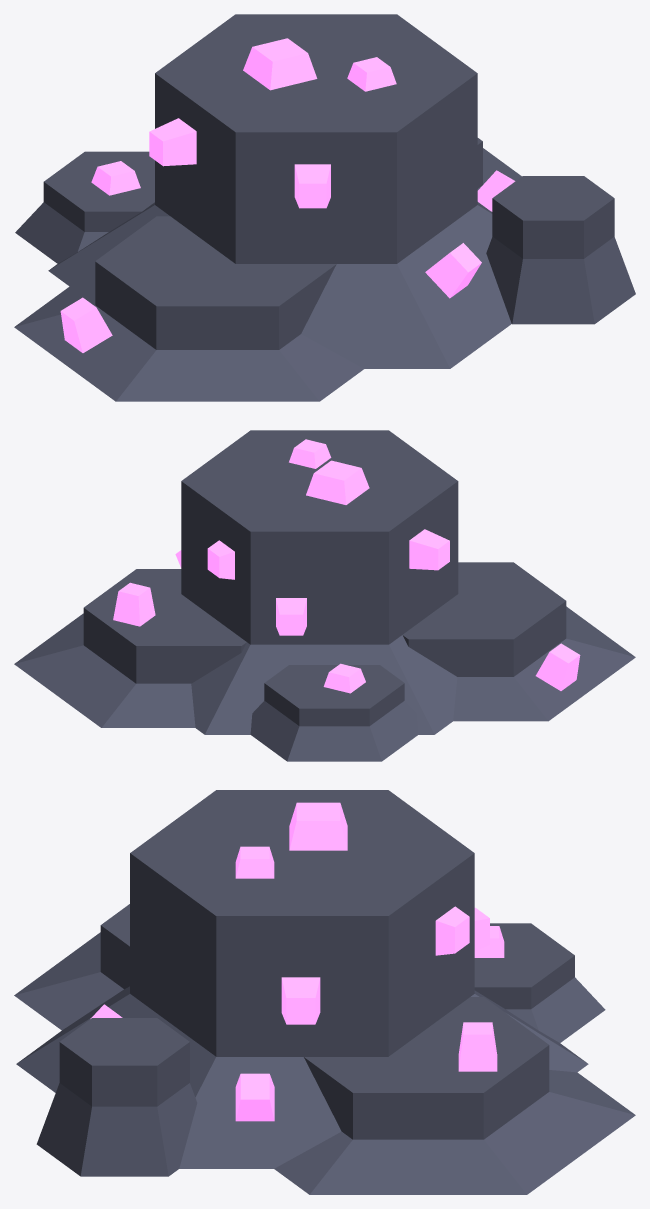
File: rock_crystals.glb
The picture shows the model from 3 angles, top to bottom: view 1: azimuth 30°, elevation 25°; view 2: azimuth 150°, elevation 25°; view 3: azimuth 270°, elevation 25°; orthographic projection. The views are drawn at different scales.
Visible parts, largest first — view 1: rock_crystals; view 2: rock_crystals; view 3: rock_crystals.
Part boxes in pixels (x1,y1,x2,y2): rock_crystals: [14, 14, 635, 401]; rock_crystals: [14, 430, 635, 761]; rock_crystals: [14, 790, 635, 1194].
Size of the model in its own units: 0.8509 by 0.3375 by 0.8015.
